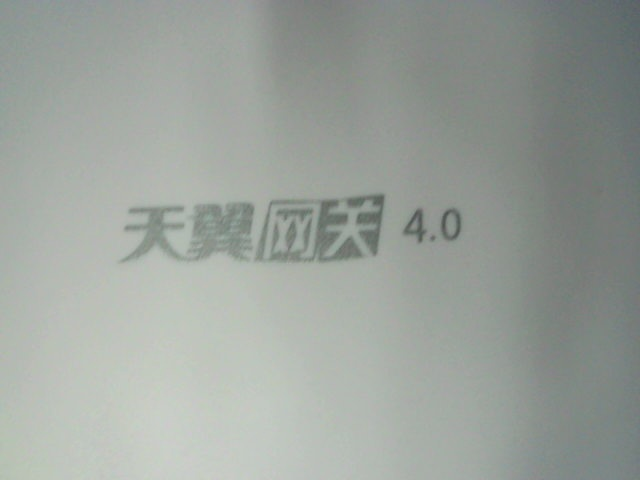BM_TianYiWangGuan: (111, 200, 467, 266)
